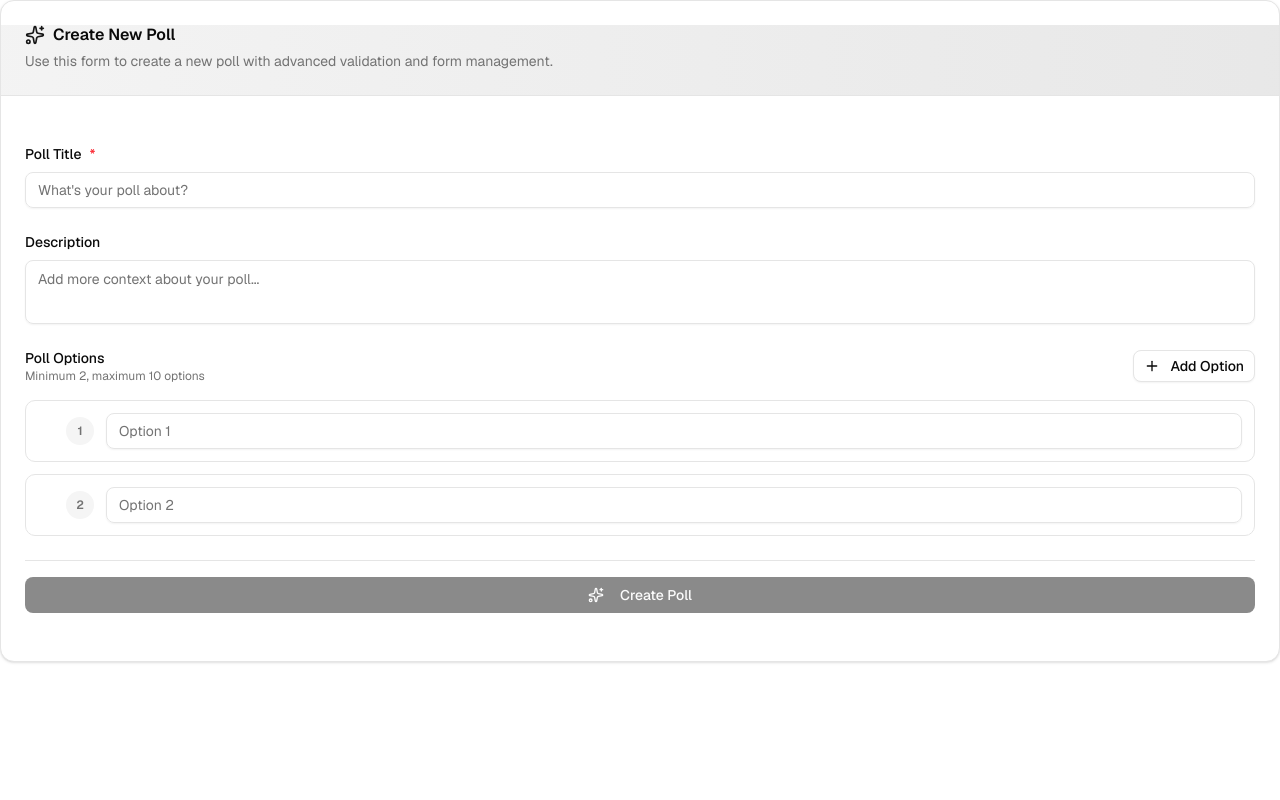
Test: PollForm › shows error messages when typing invalid input
The width and height of the screenshot is (1280, 800).
Note: Type invalid input to trigger validation
In the field with placeholder "What's your poll about?": (640, 190) 25,172 -> 1255,208, type "ab"
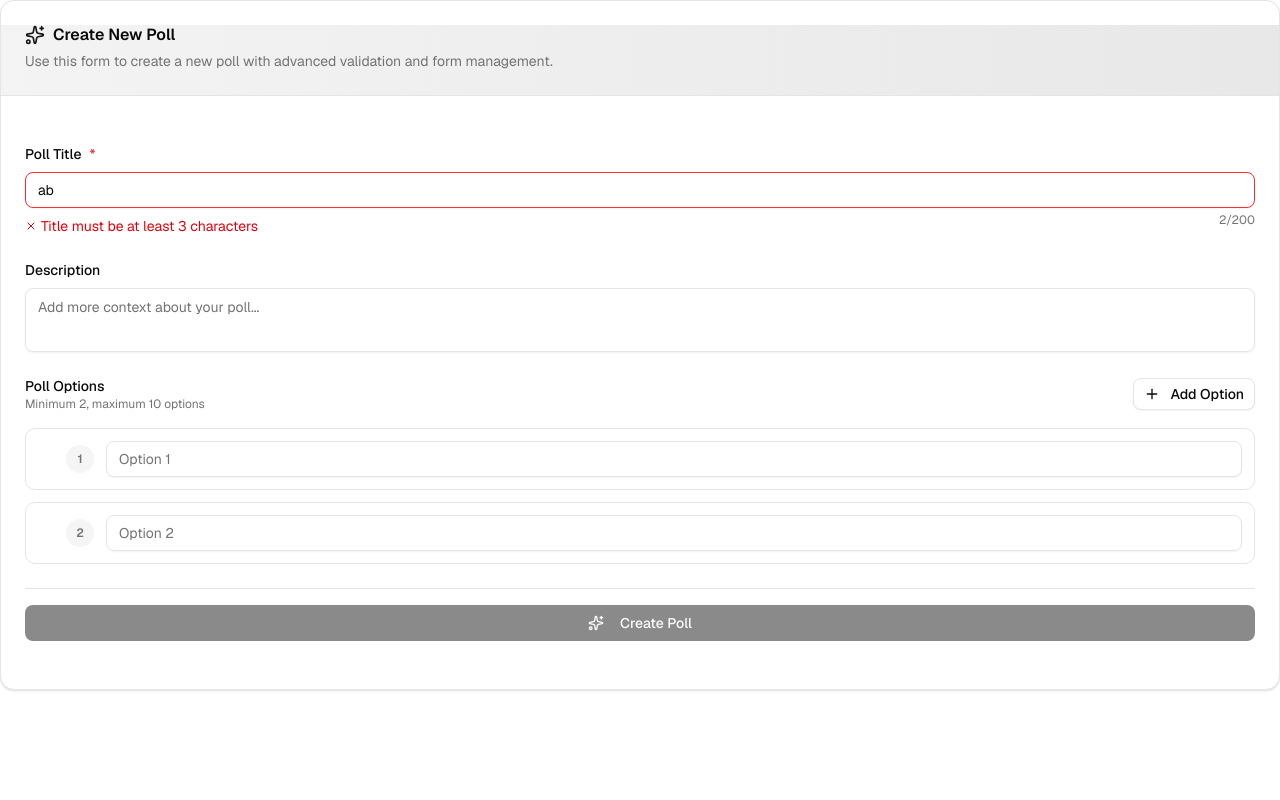
expect the text "Title must be at least 3 characters" is shown: met, box 25,217 -> 258,235
